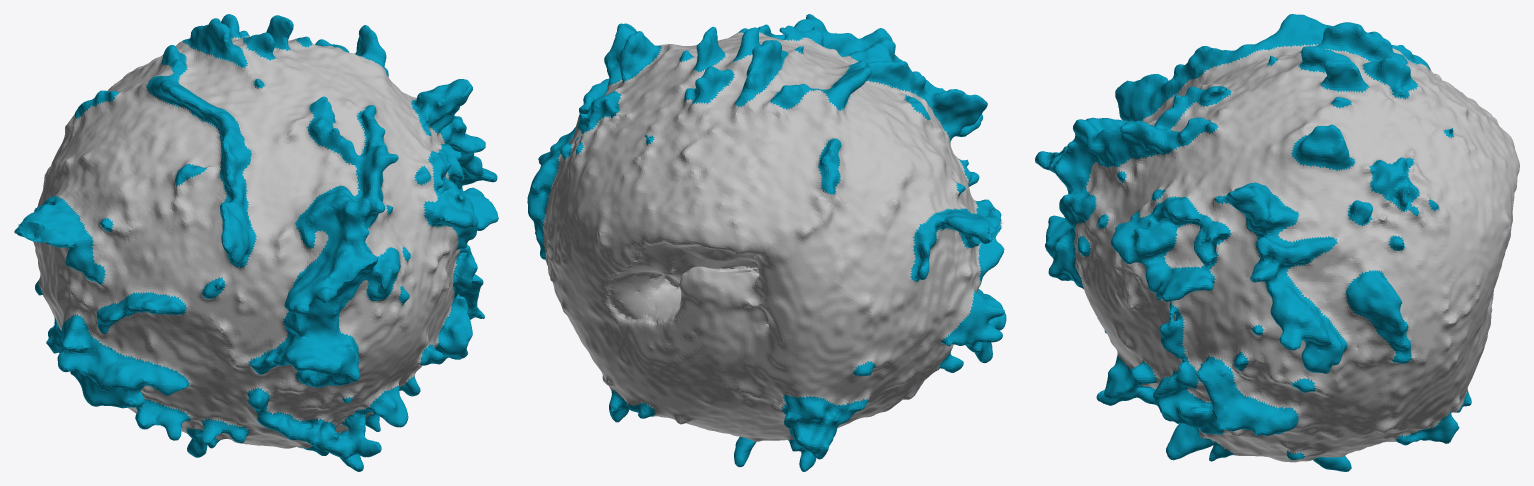
3 views of the same model, side by side, from view 1: azimuth 30°, elevation 25°; view 2: azimuth 150°, elevation 25°; view 3: azimuth 270°, elevation 25° (orthographic). The views are drawn at different scales.
Size of the model in its own units: 173 by 152 by 153.
